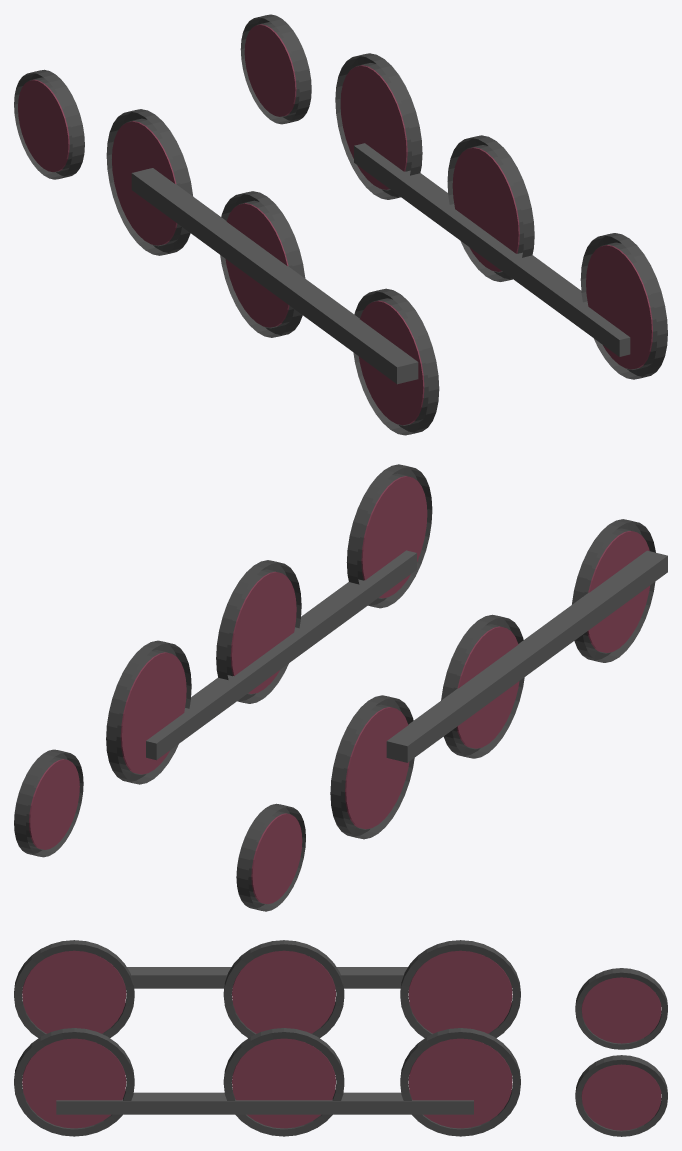
The model's file is met-f-class-wheelset.dae.
The picture shows the model from 3 angles, top to bottom: view 1: azimuth 30°, elevation 25°; view 2: azimuth 150°, elevation 25°; view 3: azimuth 270°, elevation 25°; orthographic projection. The views are drawn at different scales.
Parts seen in each view (by area): view 1: Cube_008, Cube_007, Cylinder_006, Cylinder_013, Cylinder_004, Cylinder_008, Cylinder_012, Cylinder_010, Cylinder_000, Cylinder_009; view 2: Cube_008, Cylinder_008, Cube_007, Cylinder_013, Cylinder_006, Cylinder_004, Cylinder_012, Cylinder_010, Cylinder_009, Cylinder_000; view 3: Cylinder_013, Cylinder_006, Cylinder_010, Cylinder_008, Cylinder_012, Cylinder_004, Cube_007, Cylinder_009, Cylinder_000, Cube_008.
Boxes of the visible parts, x1,y1,x2,y2 form: Cube_008: (131,168,418,384); Cube_007: (354,143,630,356); Cylinder_006: (580,233,667,379); Cylinder_013: (335,53,422,199); Cylinder_004: (447,135,534,281); Cylinder_008: (106,109,193,255); Cylinder_012: (353,288,439,435); Cylinder_010: (220,191,305,337); Cylinder_000: (240,14,311,124); Cylinder_009: (14,69,84,179); Cube_008: (386,550,667,762); Cylinder_008: (330,695,414,839); Cube_007: (146,550,416,760); Cylinder_013: (106,640,191,784); Cylinder_006: (346,464,432,608); Cylinder_004: (216,560,301,703); Cylinder_012: (572,519,655,662); Cylinder_010: (441,614,524,758); Cylinder_009: (236,803,305,911); Cylinder_000: (14,749,83,857); Cylinder_013: (400,1028,520,1136); Cylinder_006: (14,1028,134,1136); Cylinder_010: (223,940,344,1038); Cylinder_008: (400,940,520,1038); Cylinder_012: (14,940,134,1037); Cylinder_004: (223,1028,344,1136); Cube_007: (56,1092,473,1114); Cylinder_009: (575,968,667,1049); Cylinder_000: (575,1055,667,1136); Cube_008: (125,967,407,988).
Bounding box in the file's own units: 1.73 × 4.77 × 0.8421.
